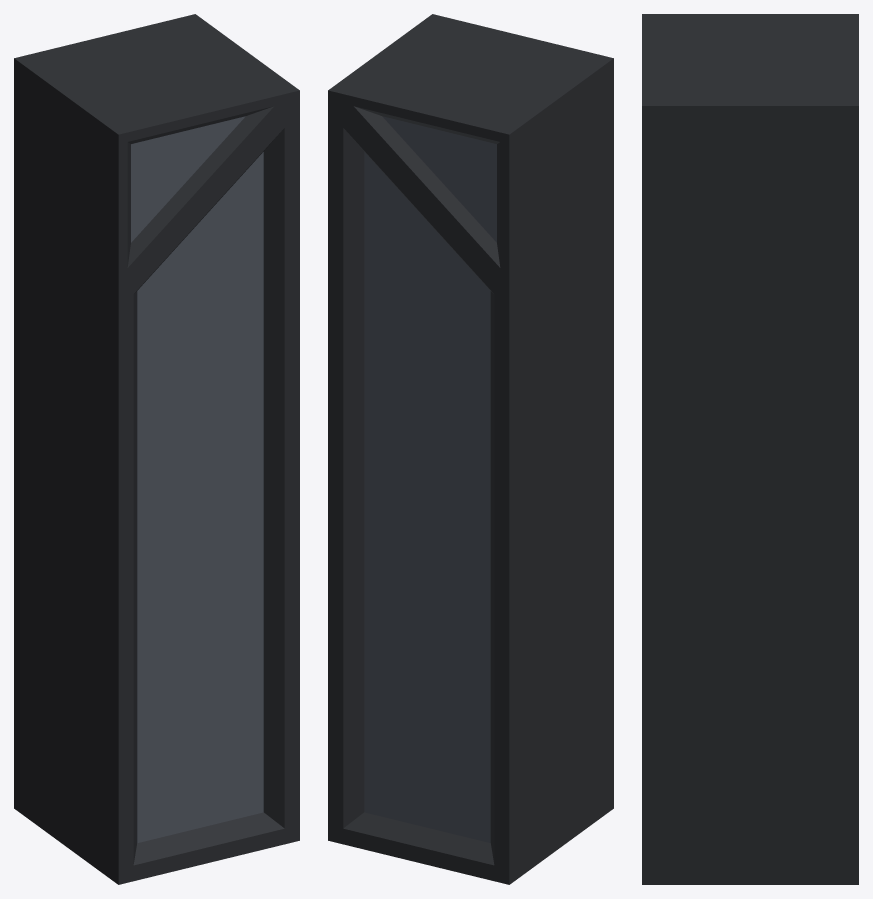
File: SM_Pillar_for_the_conveyor-1m_variation_2.glb
3 renders of one model, left to right at view 1: azimuth 30°, elevation 25°; view 2: azimuth 150°, elevation 25°; view 3: azimuth 270°, elevation 25°, orthographic. The views are drawn at different scales.
Parts seen in each view (by area): view 1: SM_Pillar_for_the_conveyor-1m_variation_2; view 2: SM_Pillar_for_the_conveyor-1m_variation_2; view 3: SM_Pillar_for_the_conveyor-1m_variation_2.
Part boxes in pixels (x1,y1,x2,y2): SM_Pillar_for_the_conveyor-1m_variation_2: (14,14,299,884); SM_Pillar_for_the_conveyor-1m_variation_2: (328,14,613,884); SM_Pillar_for_the_conveyor-1m_variation_2: (642,14,858,884).
Bounding box in the file's own units: 0.253 × 1 × 0.2523.
Materials: 1 (1 with a texture image).
